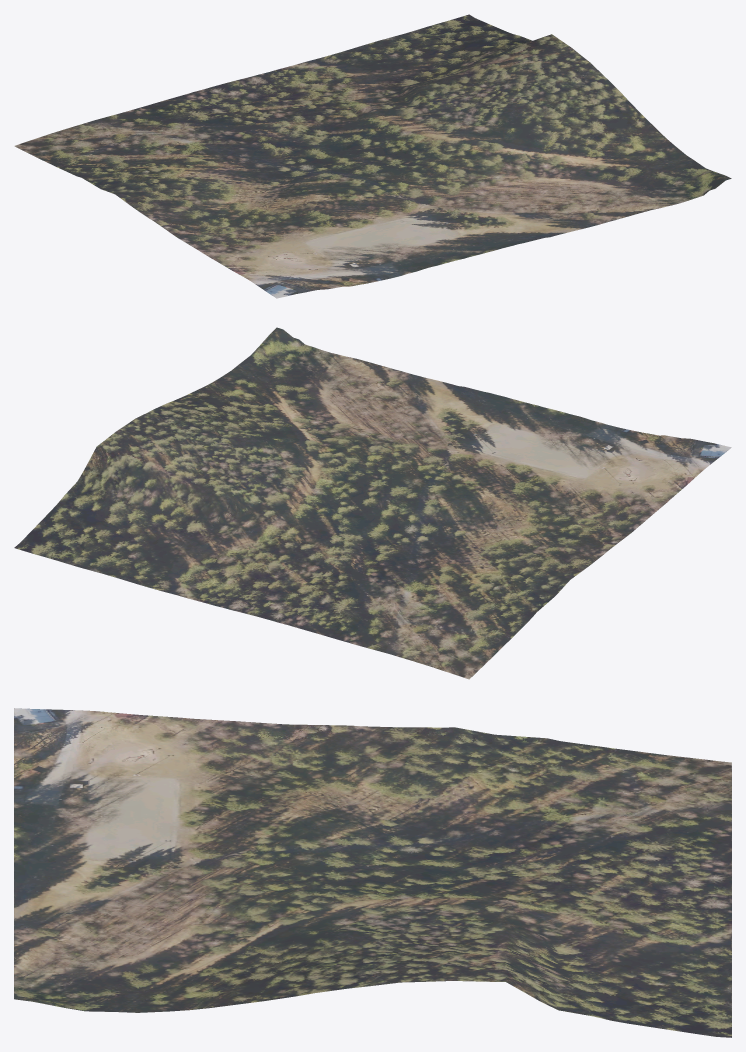
Rendered from CM_Terrain_24488615_6822456.fbx.
The picture shows the model from 3 angles, top to bottom: view 1: azimuth 30°, elevation 25°; view 2: azimuth 150°, elevation 25°; view 3: azimuth 270°, elevation 25°; orthographic projection. The views are drawn at different scales.
Parts seen in each view (by area): view 1: CM_Terrain_24488615_6822456_LOD0; view 2: CM_Terrain_24488615_6822456_LOD0; view 3: CM_Terrain_24488615_6822456_LOD0.
Boxes of the visible parts, x1=… form: CM_Terrain_24488615_6822456_LOD0: x1=14, y1=14, x2=731, y2=298; CM_Terrain_24488615_6822456_LOD0: x1=14, y1=327, x2=731, y2=679; CM_Terrain_24488615_6822456_LOD0: x1=14, y1=708, x2=731, y2=1037.
Size of what is drawn, in the model's own units: 205 by 26.77 by 205.
